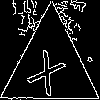X: (25, 41, 72, 97)
